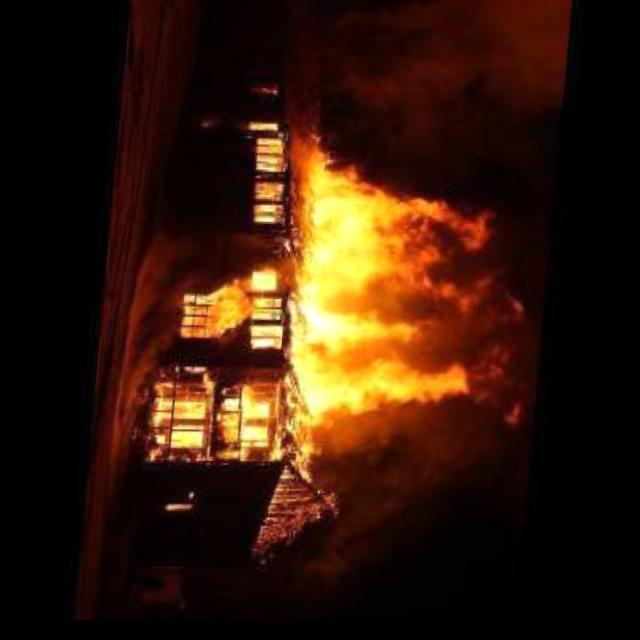fire: (282, 148, 510, 476), (155, 266, 289, 467), (244, 121, 296, 226)
